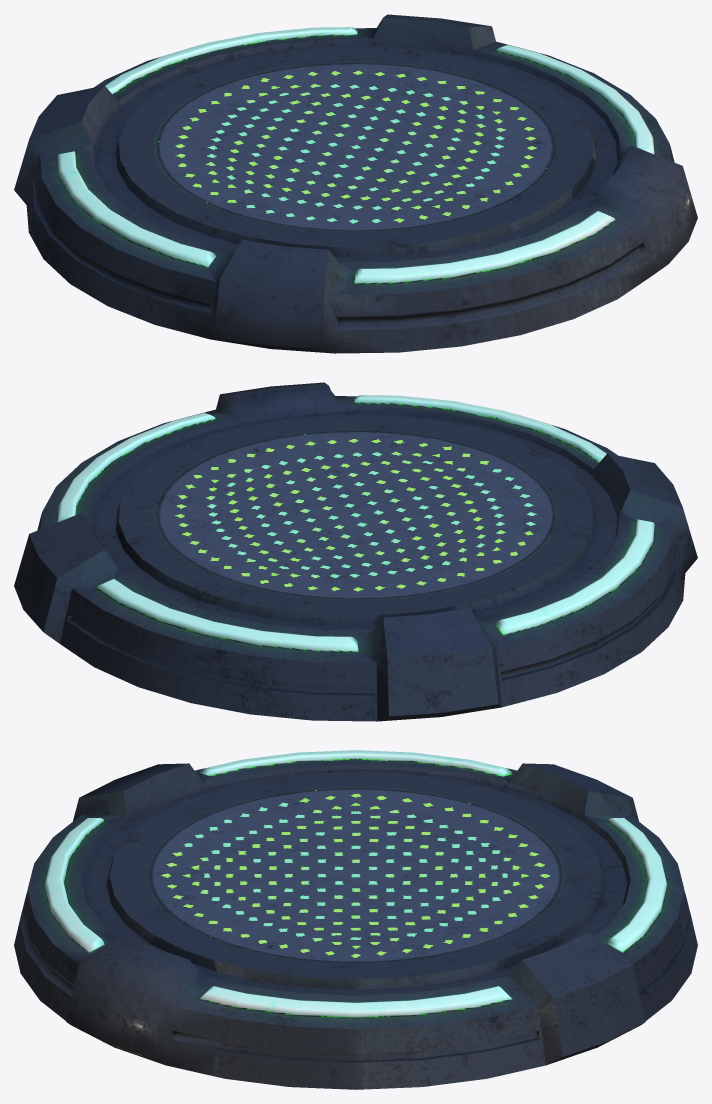
File: Projector.gltf
The picture shows the model from 3 angles, top to bottom: view 1: azimuth 30°, elevation 25°; view 2: azimuth 150°, elevation 25°; view 3: azimuth 270°, elevation 25°; orthographic projection. The views are drawn at different scales.
Visible parts, largest first — view 1: baker; view 2: baker; view 3: baker.
Part boxes in pixels (x1,y1,x2,y2): baker: (14, 14, 697, 353); baker: (14, 382, 697, 721); baker: (14, 750, 697, 1089).
Size of the model in its own units: 0.3051 by 0.0412 by 0.3051.
1 material, 1 textured.
